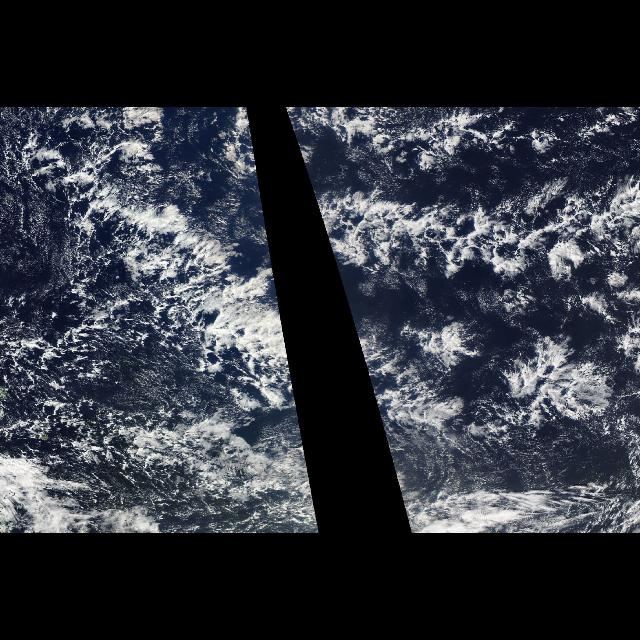Fish: (296, 144, 640, 440), (15, 134, 304, 440)
Gravel: (3, 290, 170, 468)
Sugar: (383, 436, 637, 492)
